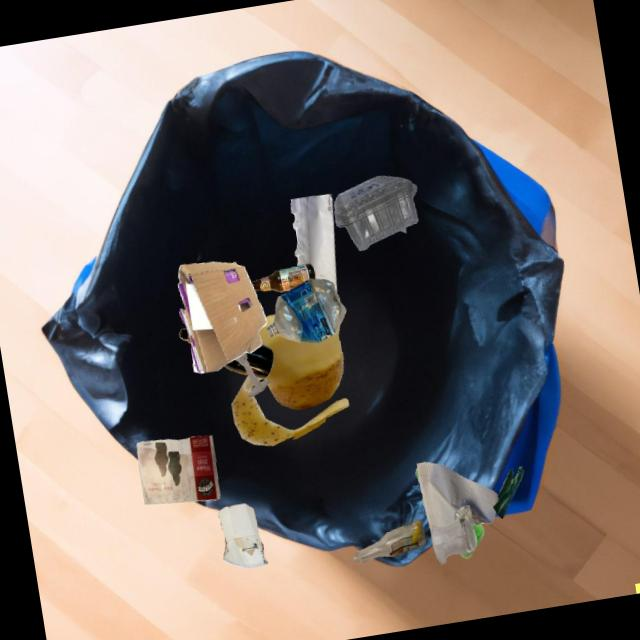biowaste: (232, 376, 289, 446), (302, 325, 343, 409), (259, 315, 314, 373), (493, 467, 524, 519)
cardboard: (178, 262, 267, 373), (218, 503, 268, 568)
glass: (354, 519, 425, 563), (187, 330, 262, 365), (431, 518, 477, 564), (251, 264, 316, 292), (235, 352, 270, 397), (247, 344, 274, 379)
paper: (417, 462, 498, 534), (137, 435, 220, 504), (291, 194, 337, 294)
plastic: (334, 176, 418, 251), (267, 279, 346, 343), (416, 463, 473, 526)
